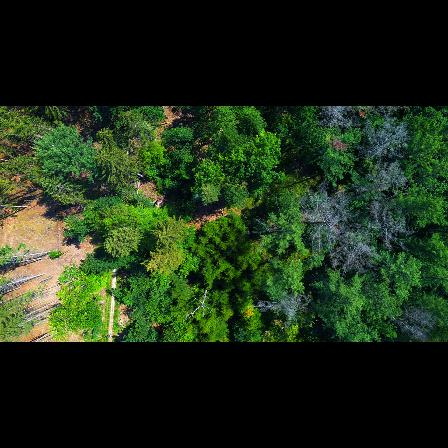Dead: (297, 186, 344, 256), (256, 289, 310, 327), (355, 126, 410, 163), (365, 209, 414, 248), (391, 304, 436, 339), (334, 230, 371, 272), (364, 169, 409, 197), (183, 287, 215, 318)
